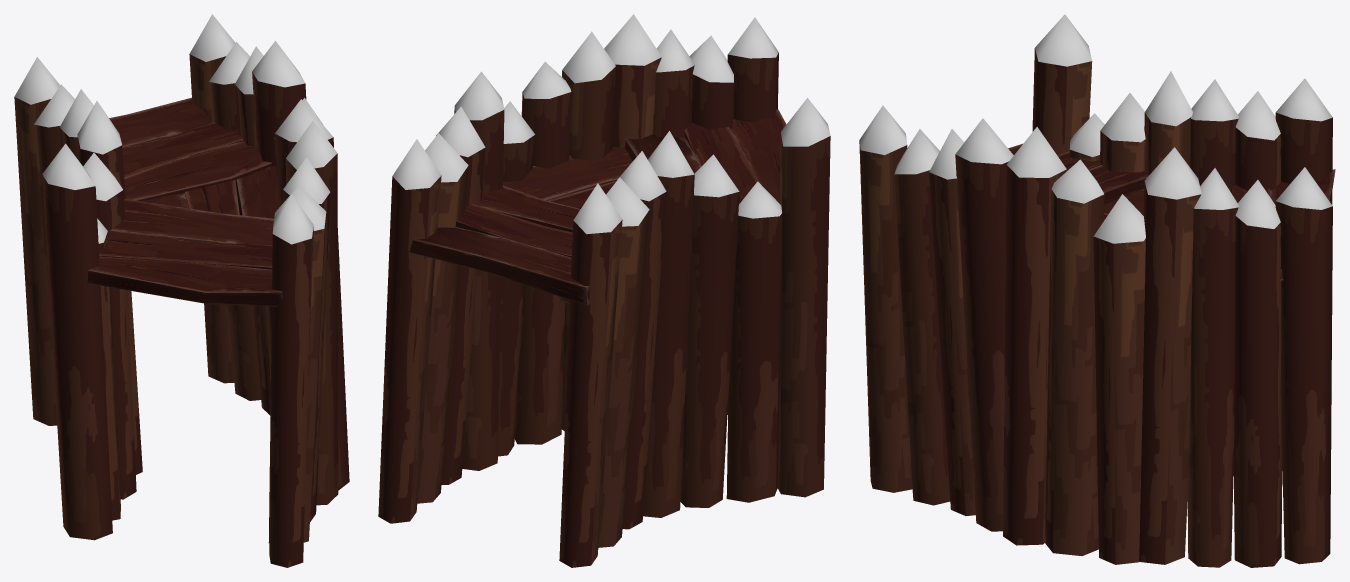
Rendered from SM_PROP_wall_wood_corner_02.fbx.
3 views of the same model, side by side, from view 1: azimuth 30°, elevation 25°; view 2: azimuth 150°, elevation 25°; view 3: azimuth 270°, elevation 25° (orthographic). The views are drawn at different scales.
Parts seen in each view (by area): view 1: SM_PROP_wall_wood_corner_02; view 2: SM_PROP_wall_wood_corner_02; view 3: SM_PROP_wall_wood_corner_02.
Part boxes in pixels (x1,y1,x2,y2): SM_PROP_wall_wood_corner_02: [14, 14, 349, 567]; SM_PROP_wall_wood_corner_02: [378, 14, 830, 567]; SM_PROP_wall_wood_corner_02: [859, 14, 1335, 567].
Bounding box in the file's own units: 458 × 527 × 563.
